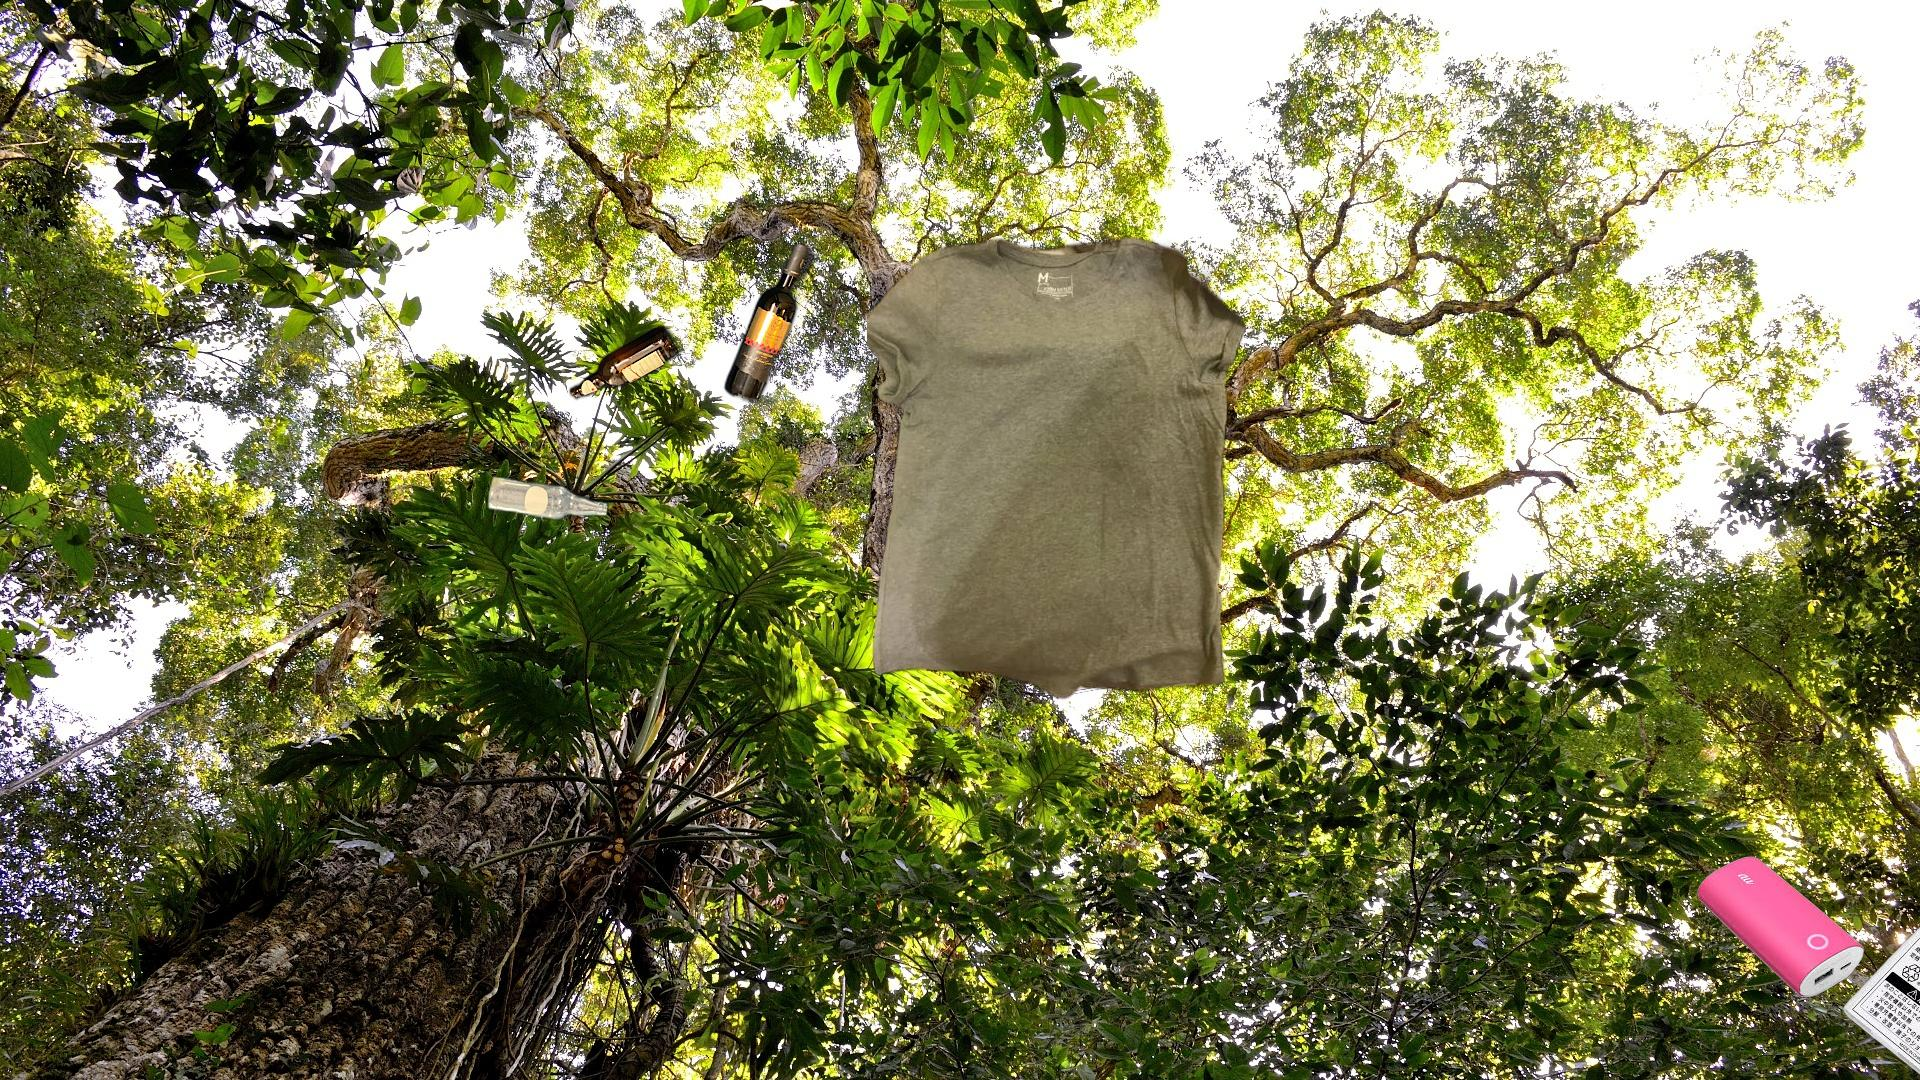battery: (1695, 853, 1867, 1000), (1840, 907, 1920, 1080)
clothes: (866, 218, 1251, 703)
glass: (483, 237, 819, 527)
